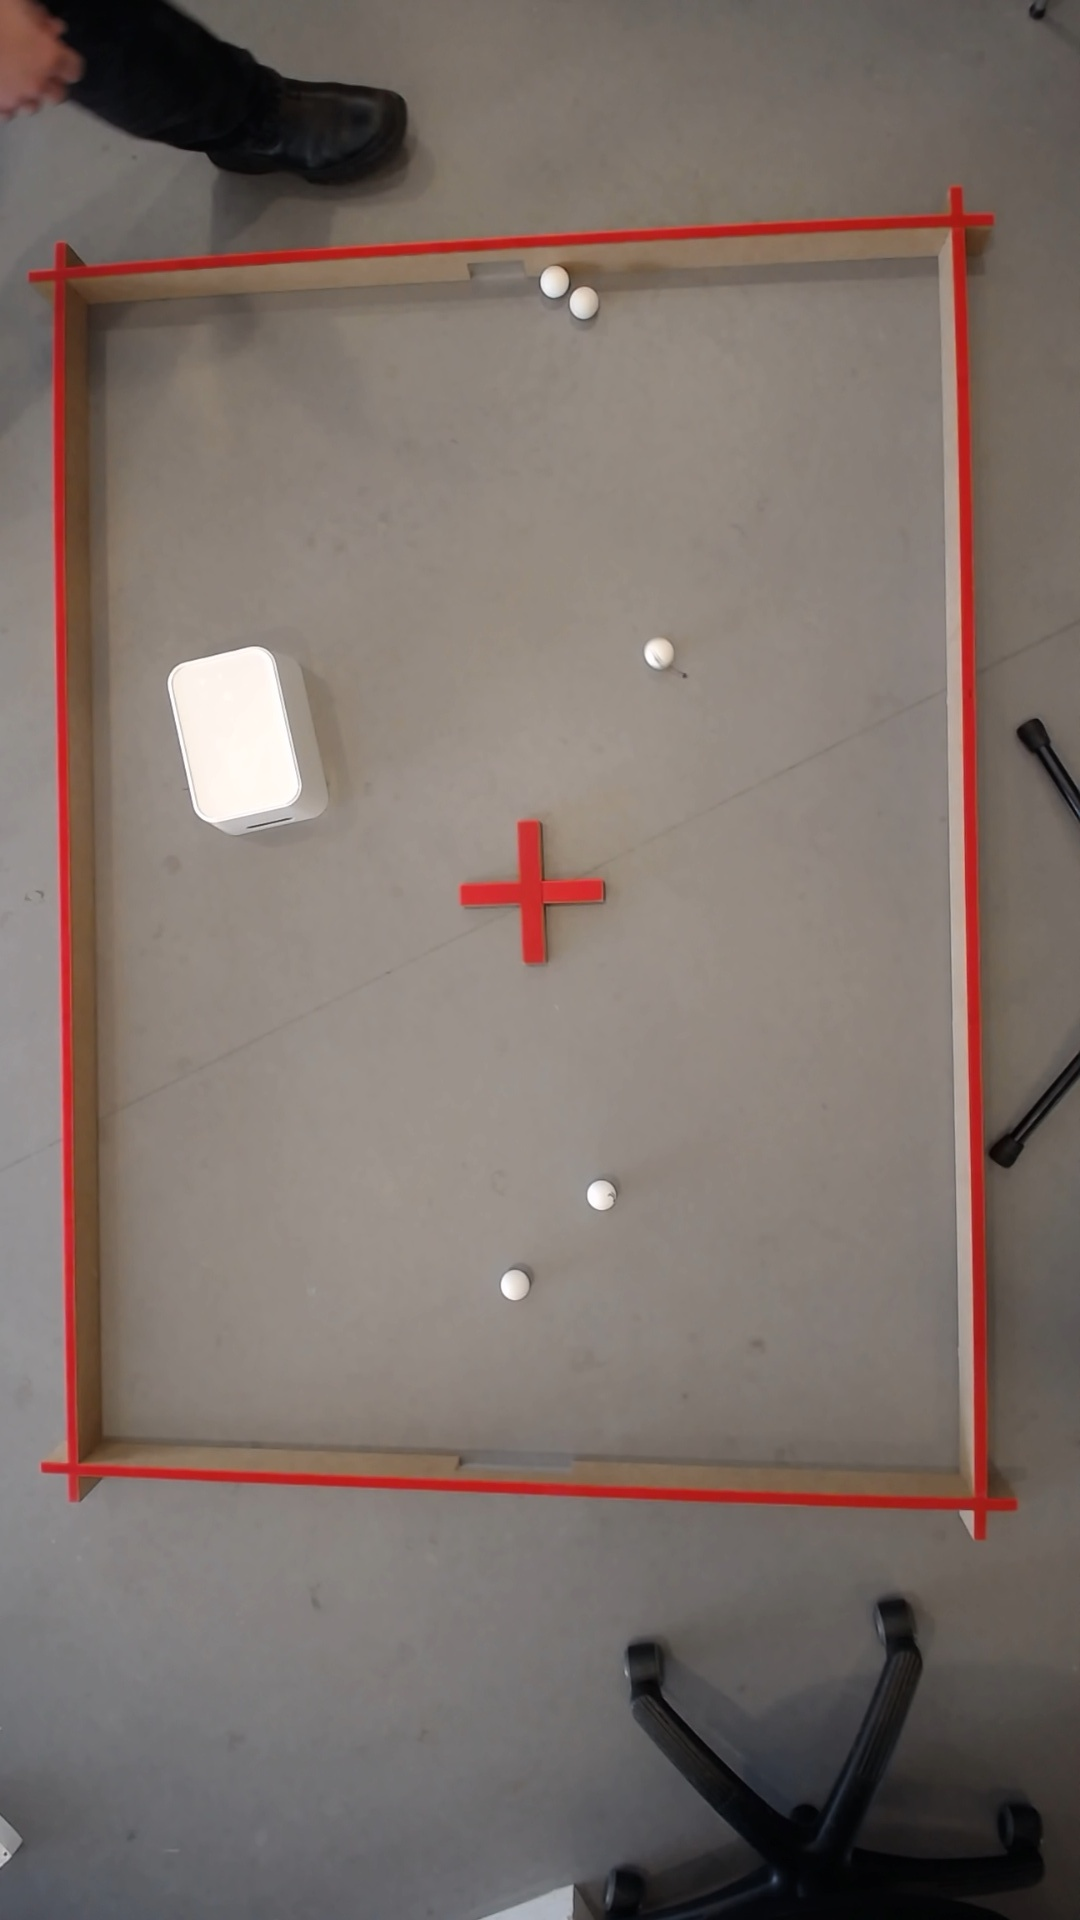balls: (161, 640, 306, 827), (580, 1176, 617, 1213), (638, 634, 673, 667), (495, 1267, 526, 1303), (539, 269, 562, 297)
car: (563, 285, 593, 318)
